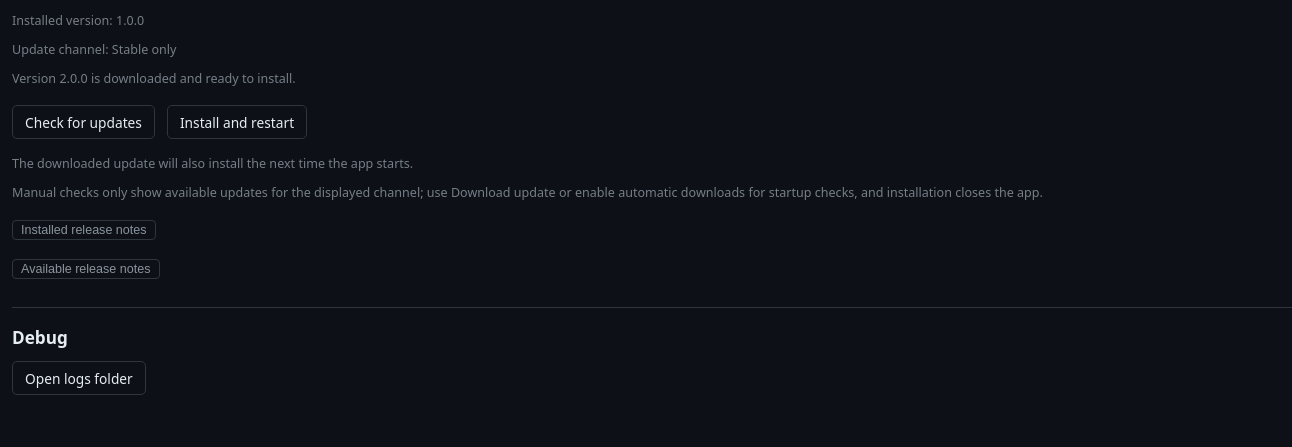
it: Updates settings › reports a log directory lookup failure without opening another location
The image size is (1292, 447).
Step 1. Click the button "Open logs folder" → (79, 378), box [12,361,146,395]
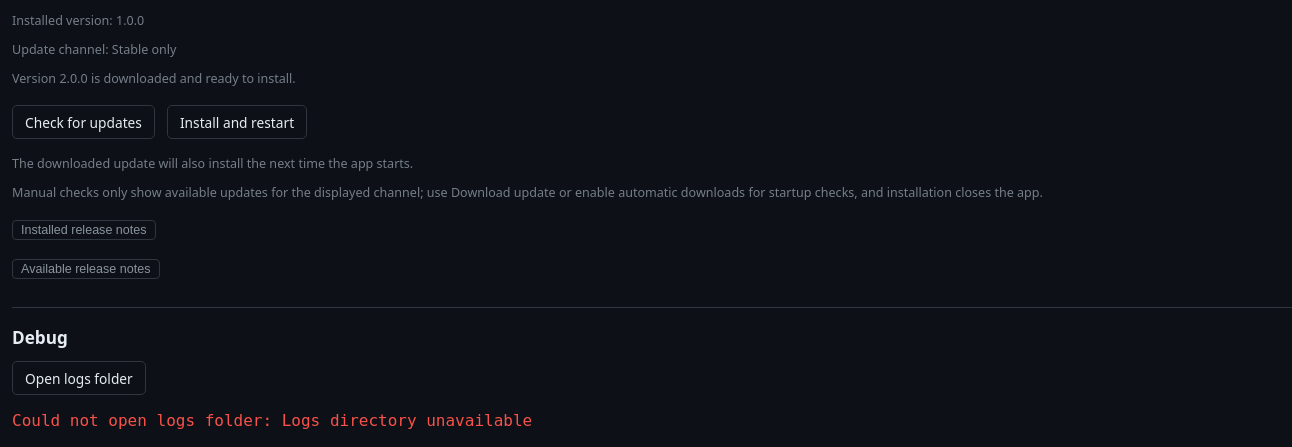
Now the message "Could not open logs folder: Logs directory unavailable" is shown, box [12,411,532,430]
